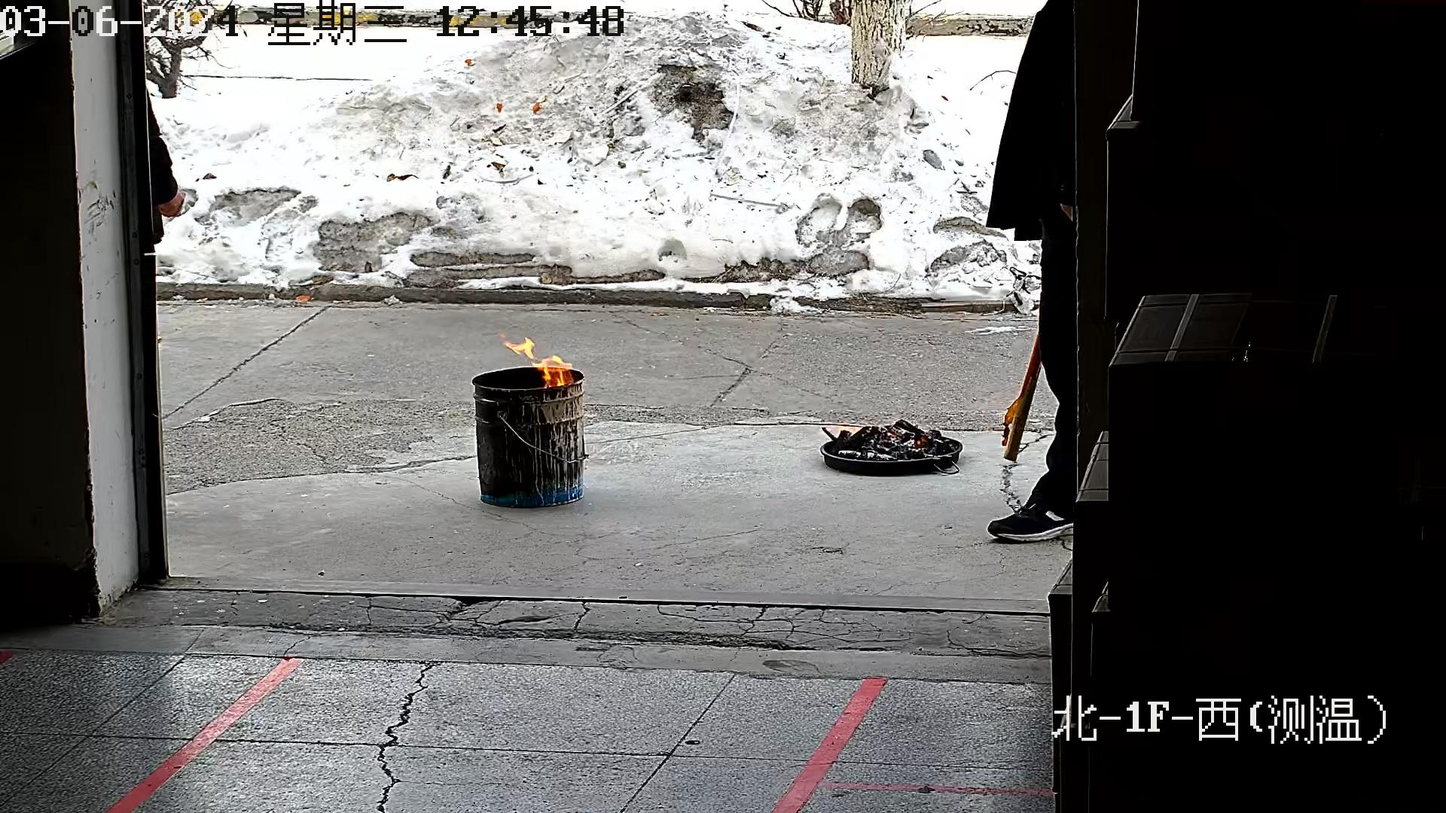fire: (505, 338, 572, 386)
